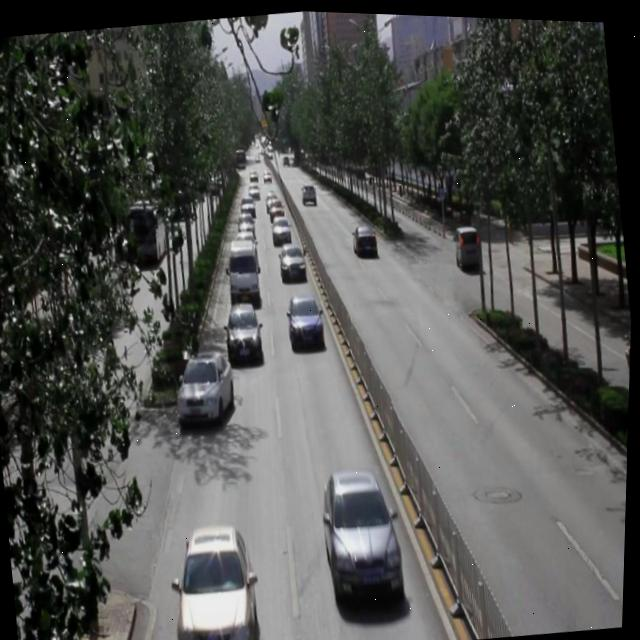car: (316, 458, 409, 600), (168, 515, 259, 640), (175, 343, 242, 426), (224, 296, 266, 357), (285, 290, 325, 348), (278, 238, 309, 280), (350, 217, 379, 256), (234, 226, 257, 255), (272, 212, 292, 242), (236, 206, 255, 231), (268, 194, 285, 219)
truck: (226, 234, 262, 298), (454, 220, 485, 269)
